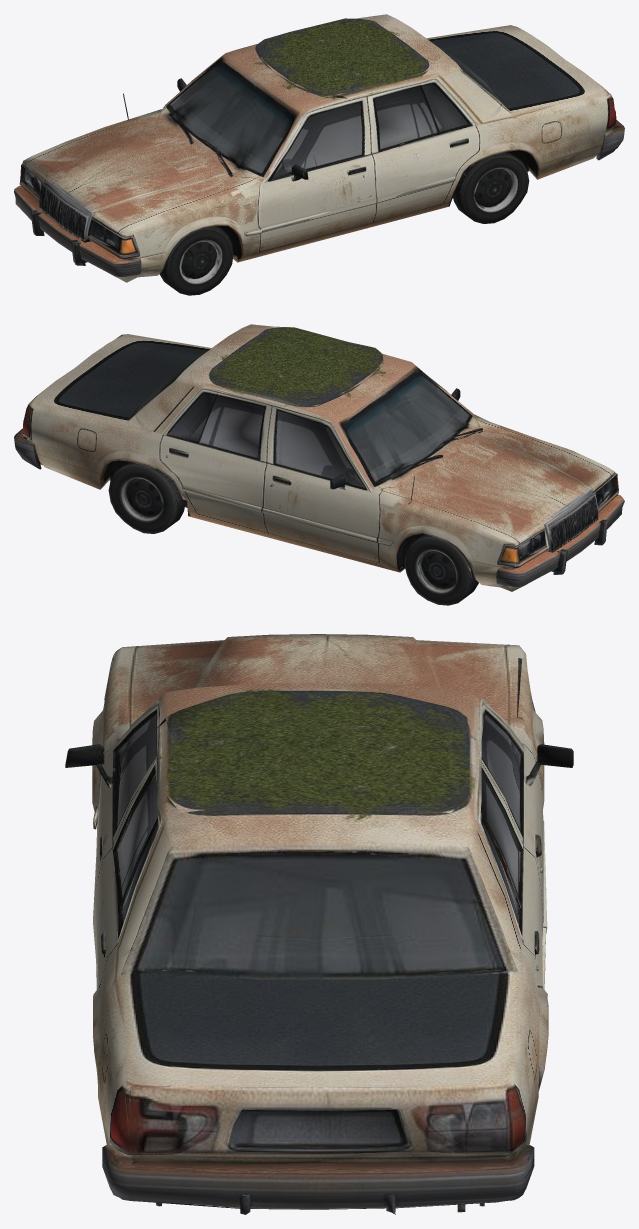
Rendered from prp_sedan_abandoned.glb.
3 renders of one model, top to bottom at view 1: azimuth 30°, elevation 25°; view 2: azimuth 150°, elevation 25°; view 3: azimuth 270°, elevation 25°, orthographic. The views are drawn at different scales.
Size of the model in its own units: 0.9512 by 0.2729 by 0.396.
1 material, 1 textured.
